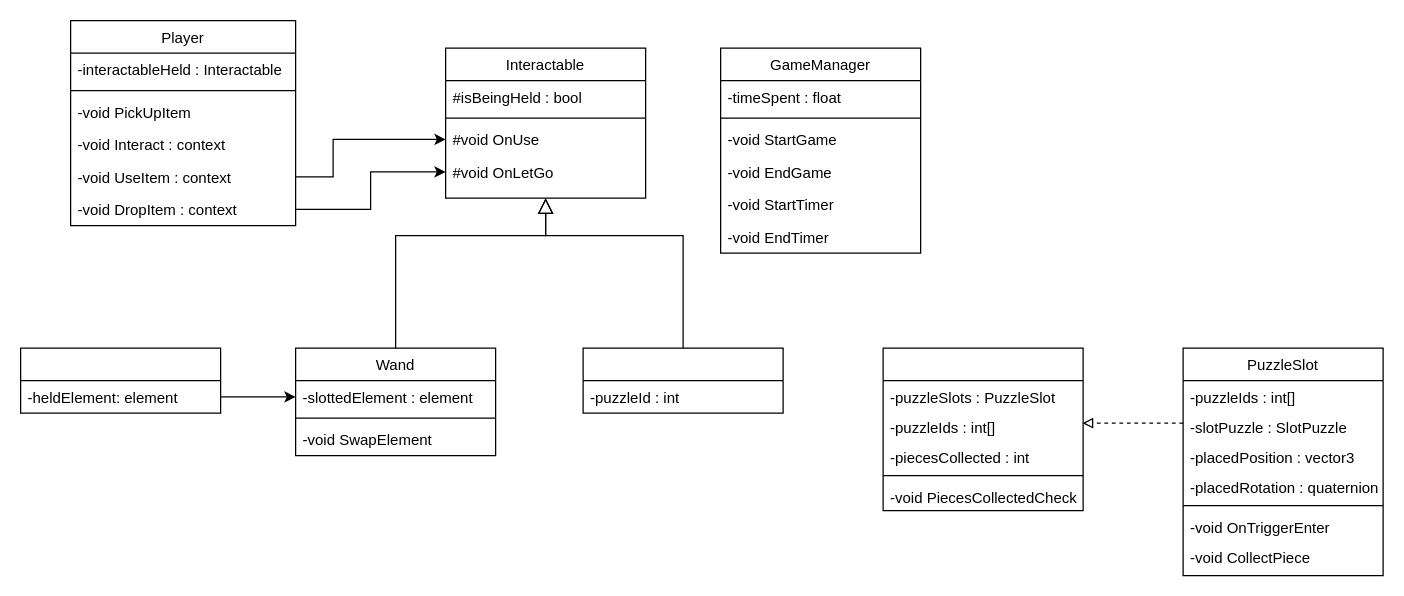
Image size: 1404x596. Some labels were removed from this diagram. The shapes that lost their labels are listed below. From the top down, each one's box as (x1, y1, x2, y2) in pixels, then its label:
(19, 347, 221, 413): Crystal
(582, 347, 783, 413): PuzzlePiece
(882, 347, 1083, 511): SlotPuzzle
